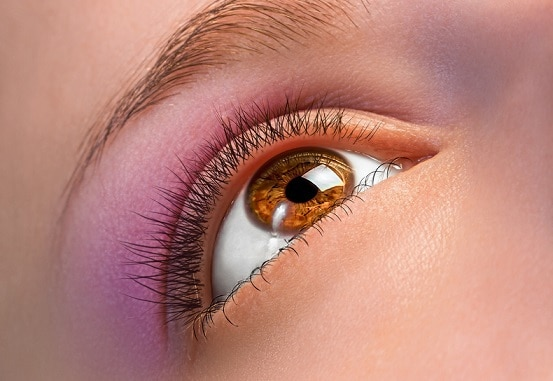iris: (243, 143, 355, 236)
pupil: (284, 176, 318, 202)
